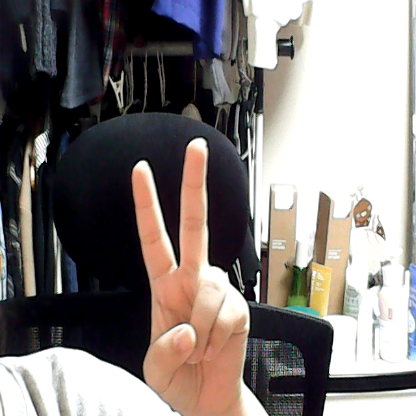Finger_2: (117, 131, 274, 416)
